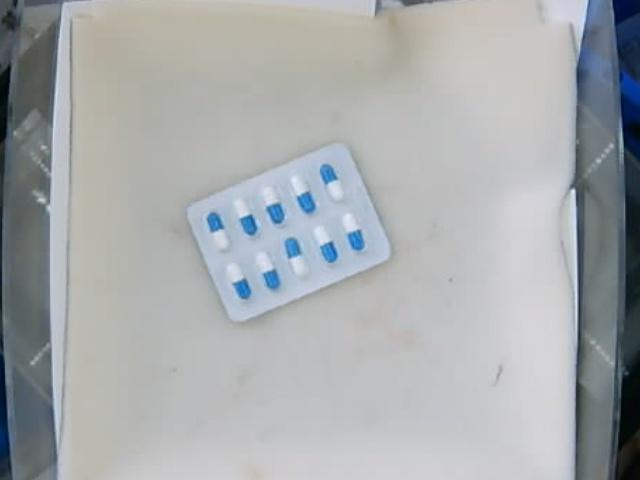Medicine: (185, 145, 396, 317)
